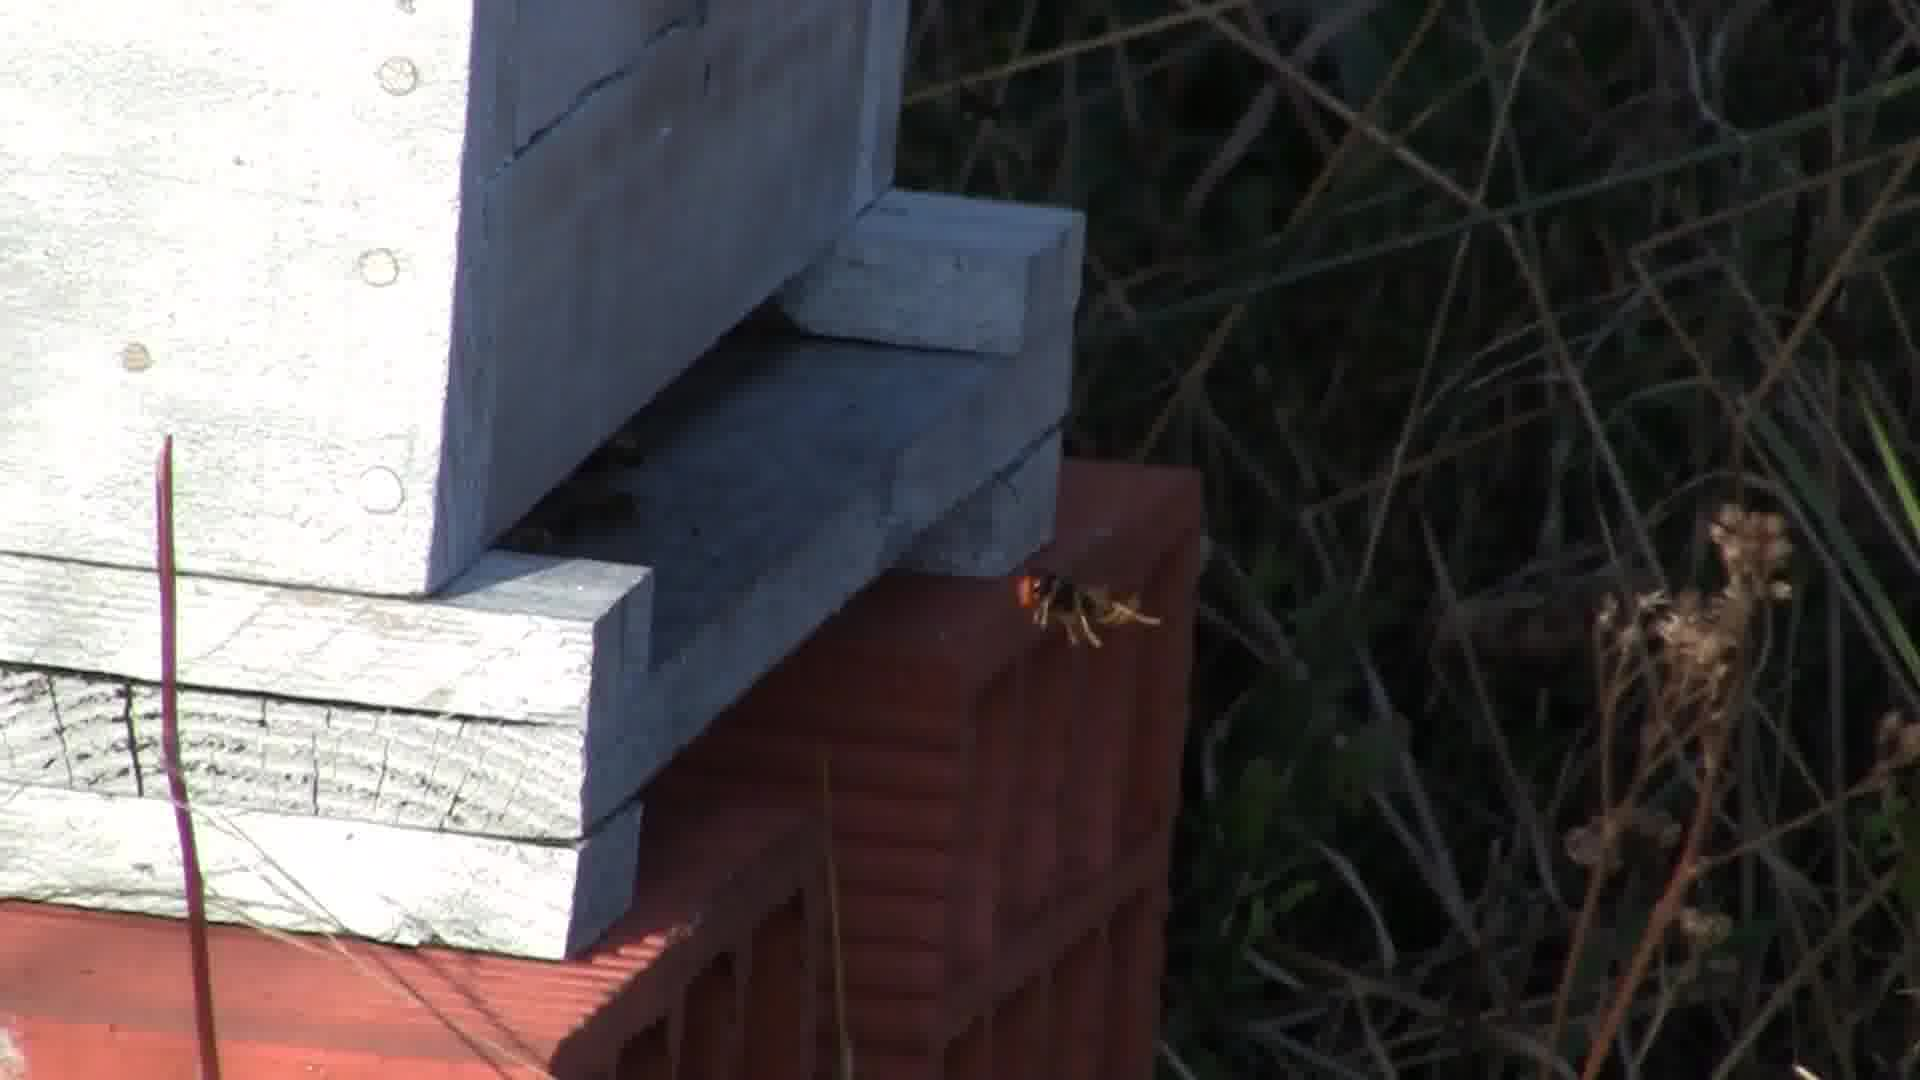hornet: (1001, 559, 1176, 662)
